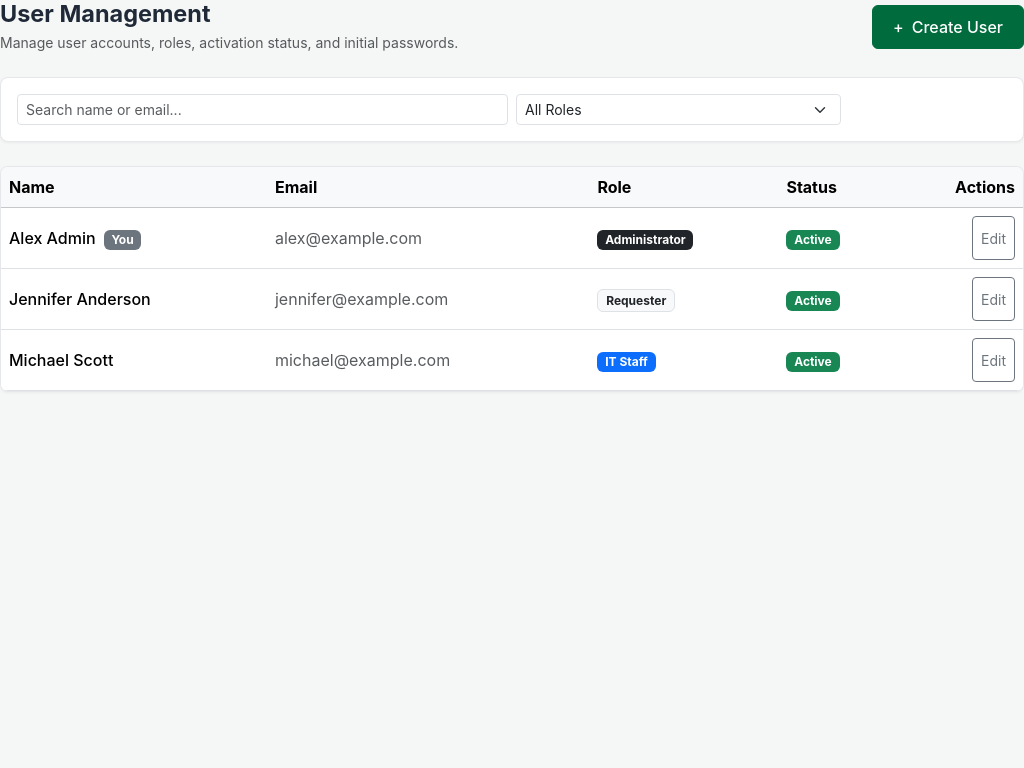
Test: UI-10 Administrator User Management Component › opens Set New Initial Password modal from edit view and submits new password
Expected: the text "Michael Scott" is shown, x1=1 y1=330 x2=267 y2=391
Click the button with aria-label "Edit user Michael Scott" at {"x": 994, "y": 360}, box x1=972 y1=338 x2=1015 y2=382
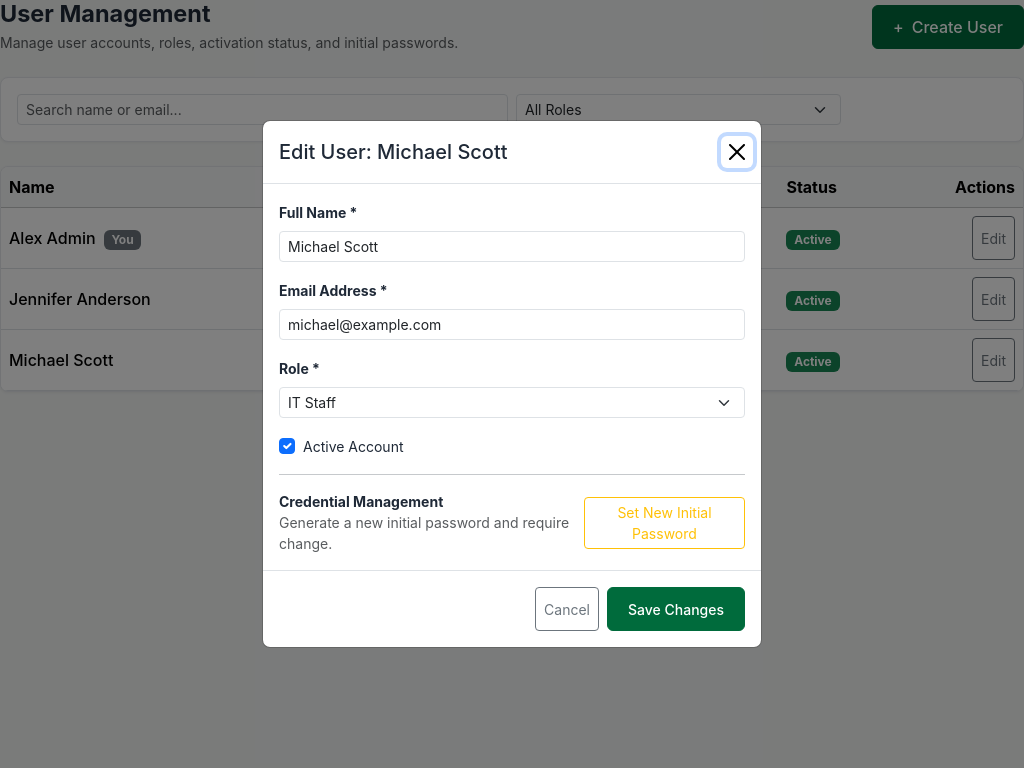
Note: Click Set New Initial Password
Click the button "Set New Initial Password" at {"x": 664, "y": 522}, box x1=584 y1=496 x2=745 y2=548
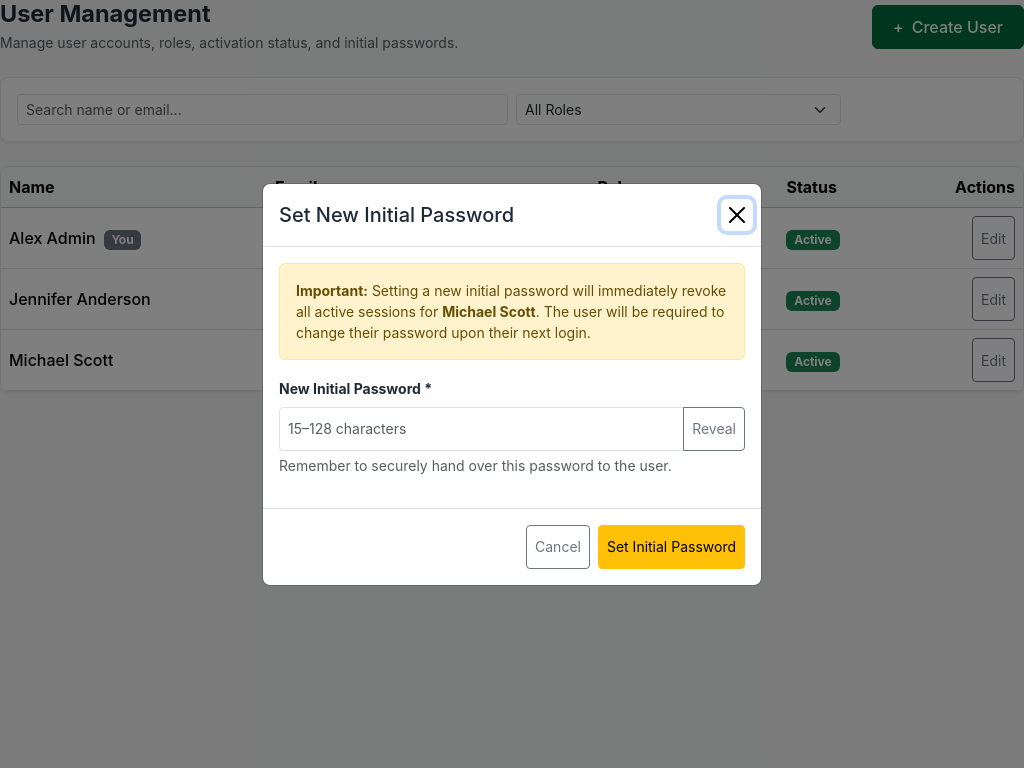
Result: the heading "Set New Initial Password" is shown at x1=279 y1=200 x2=514 y2=230
Result: the text "Setting a new initial password will immediately revoke all active sessions for" is shown at x1=296 y1=282 x2=726 y2=320
Note: Type new password
Type "NewMichaelPassword123!" into the password field with placeholder "15–128 characters" at {"x": 482, "y": 428}, box x1=279 y1=406 x2=684 y2=450
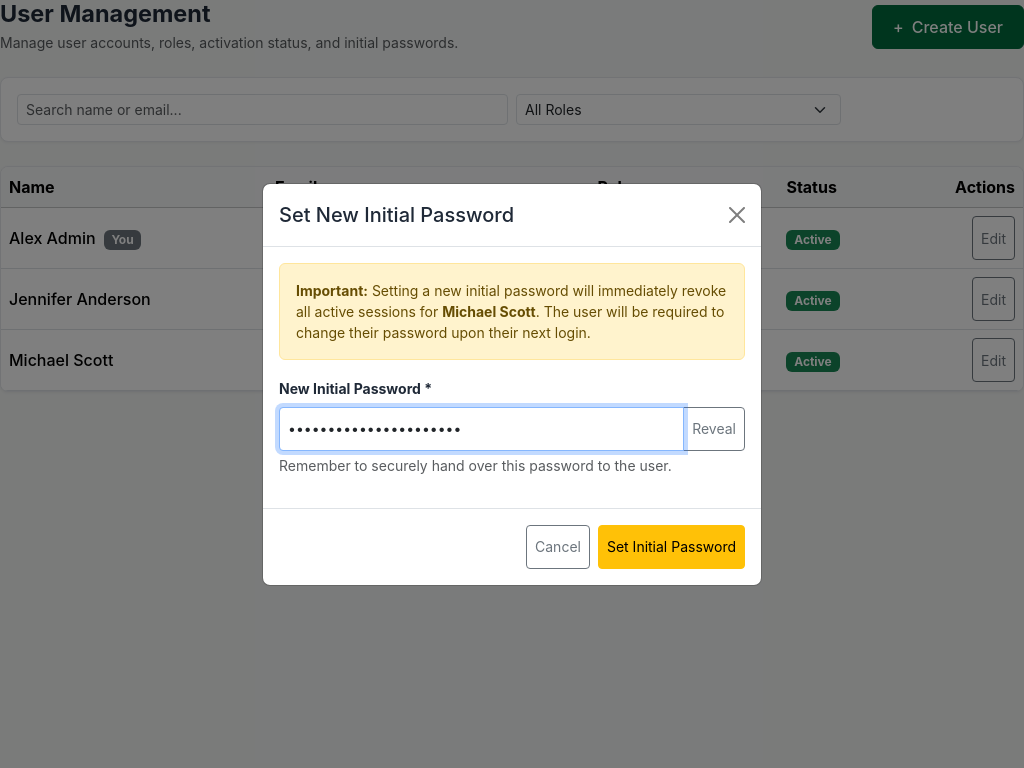
Click the button "Set Initial Password" at {"x": 672, "y": 546}, box x1=598 y1=524 x2=745 y2=568
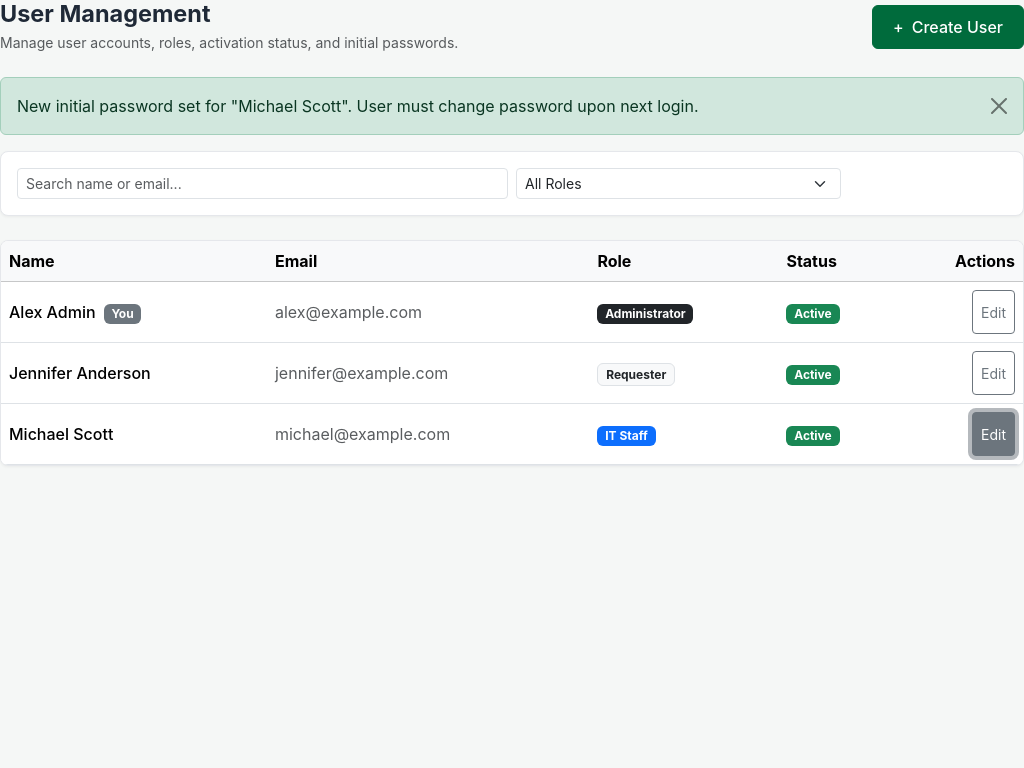
Result: the text "New initial password set for \"Michael Scott\"" is shown at x1=17 y1=96 x2=699 y2=116
